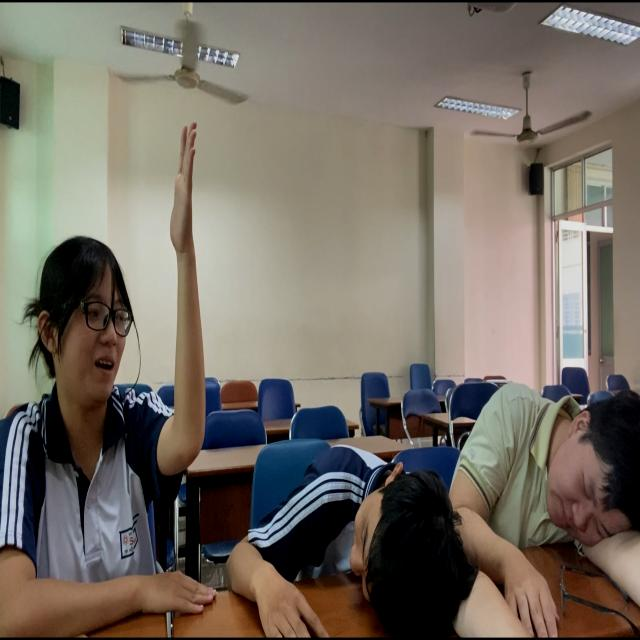raise_hand: (4, 117, 223, 640)
sleep: (219, 431, 468, 640), (453, 376, 640, 640)
